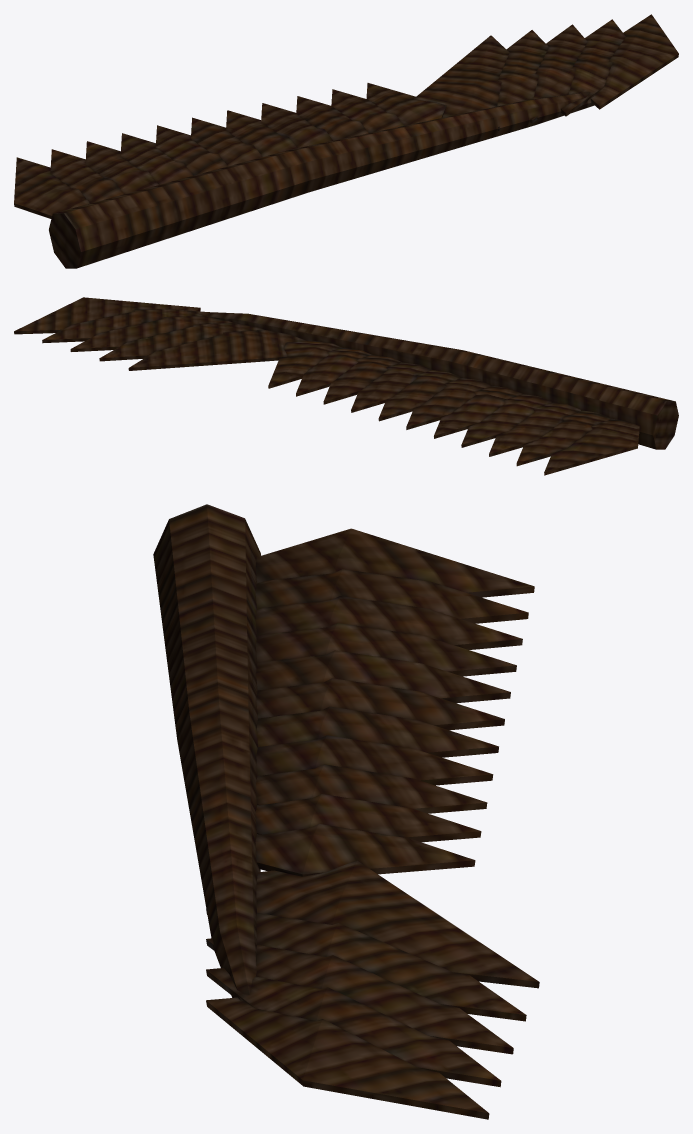
File: eagle_wing.glb
3 renders of one model, top to bottom at view 1: azimuth 30°, elevation 25°; view 2: azimuth 150°, elevation 25°; view 3: azimuth 270°, elevation 25°, orthographic. The views are drawn at different scales.
Visible parts, largest first — view 1: eagle_wing; view 2: eagle_wing; view 3: eagle_wing.
Part boxes in pixels (x1,y1,x2,y2): eagle_wing: (14, 14, 678, 268); eagle_wing: (14, 297, 678, 475); eagle_wing: (153, 504, 539, 1119).
Bounding box in the file's own units: 2.28 × 0.1899 × 0.6466.
Materials: 1 (1 with a texture image).
